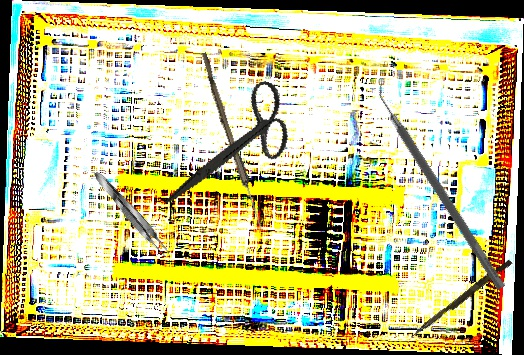Iris Scissors: (164, 63, 303, 232)
Pusher: (409, 256, 513, 343)
Spatula Surgical: (368, 80, 515, 291)
Surgical Spoon: (197, 52, 267, 231)
Tissue Forceps: (90, 167, 173, 260)
